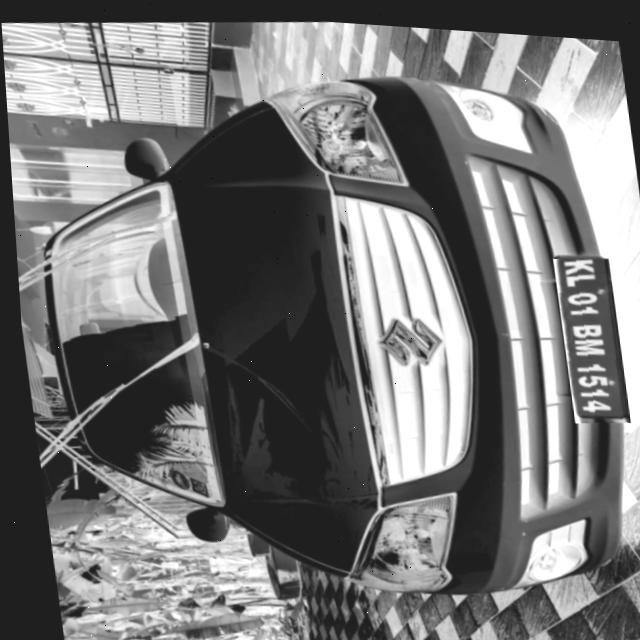Non_registered: (550, 246, 626, 417)
